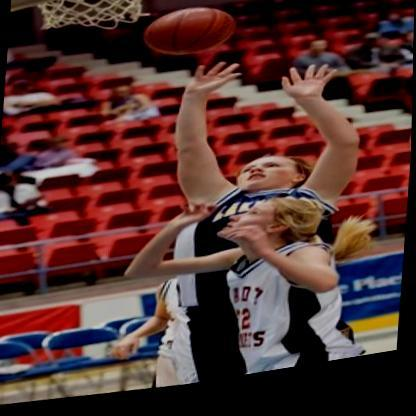basketball: (141, 6, 237, 69)
